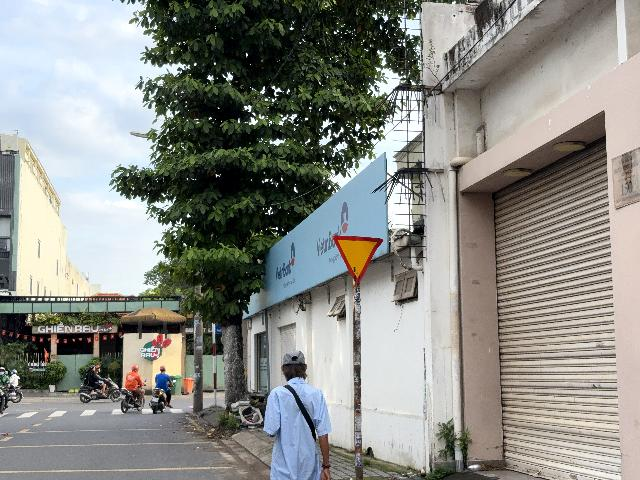giao-nhau-voi-duong-uu-tien: (332, 235, 384, 285)
